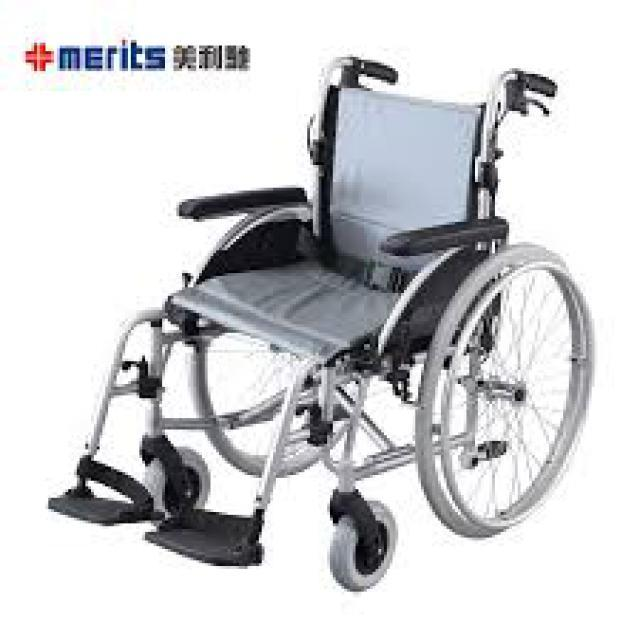wheelchair: (37, 45, 592, 626)
